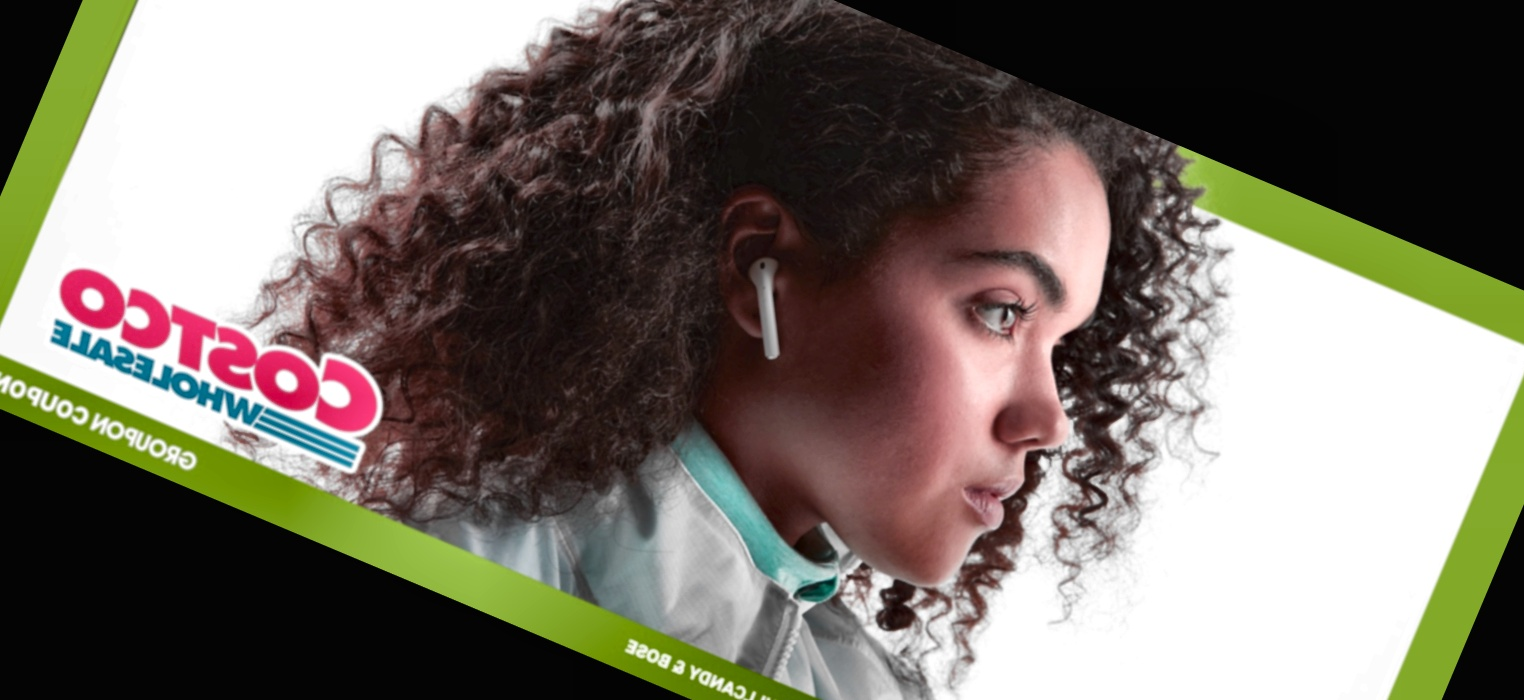earphone: (676, 174, 838, 352)
